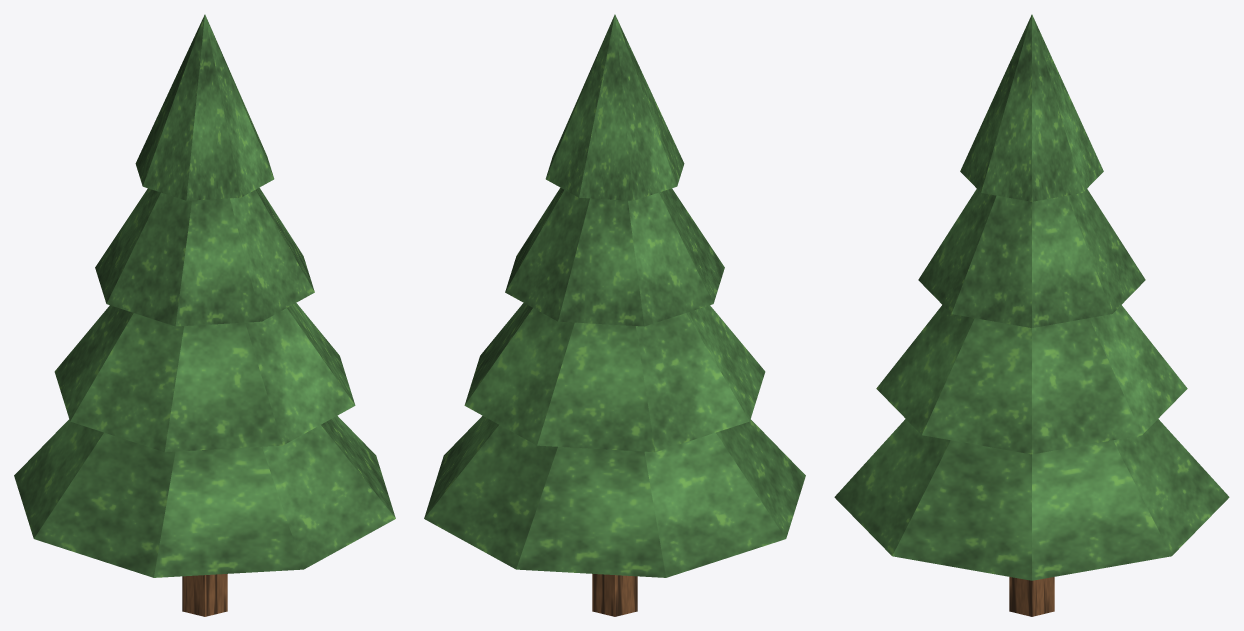
File: PineTree_LOD2.fbx
3 views of the same model, side by side, from view 1: azimuth 30°, elevation 25°; view 2: azimuth 150°, elevation 25°; view 3: azimuth 270°, elevation 25° (orthographic).
Visible parts, largest first — view 1: PineTree_LOD2; view 2: PineTree_LOD2; view 3: PineTree_LOD2.
Boxes of the visible parts, <box> form: PineTree_LOD2: <box>14,14,395,616</box>; PineTree_LOD2: <box>424,14,805,616</box>; PineTree_LOD2: <box>834,14,1229,616</box>.
Bounding box in the file's own units: 3.3 × 5.45 × 3.3.
Materials: 2 (2 with a texture image).
